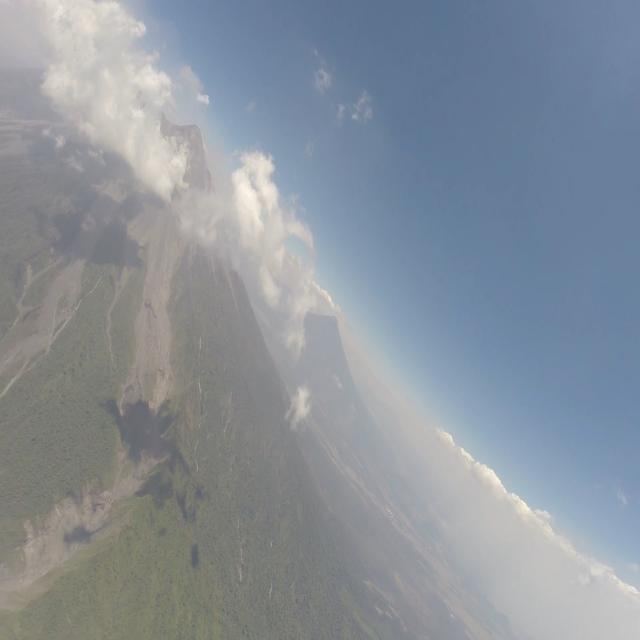Summit: (177, 120, 204, 149)
